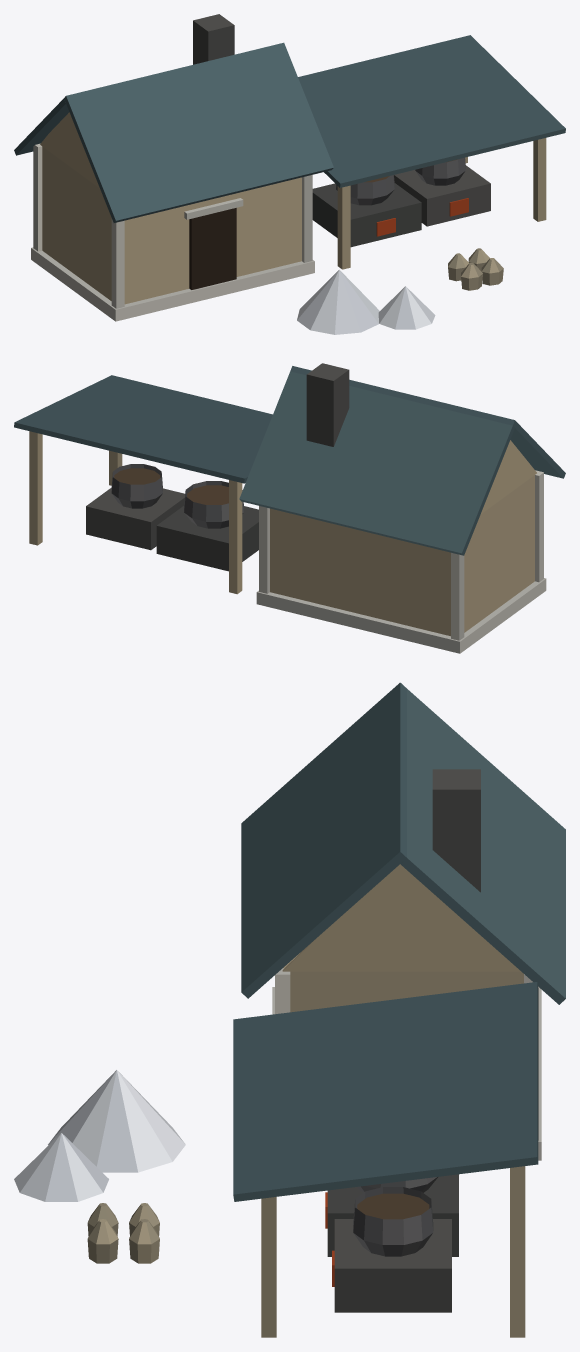
File: walk_veiled_saltworks.glb
The picture shows the model from 3 angles, top to bottom: view 1: azimuth 30°, elevation 25°; view 2: azimuth 150°, elevation 25°; view 3: azimuth 270°, elevation 25°; orthographic projection. The views are drawn at different scales.
Parts seen in each view (by area): view 1: walk_veiled_saltworks_roof, walk_veiled_saltworks; view 2: walk_veiled_saltworks_roof, walk_veiled_saltworks; view 3: walk_veiled_saltworks_roof, walk_veiled_saltworks.
Part boxes in pixels (x1=…): walk_veiled_saltworks_roof: x1=14, y1=14, x2=565, y2=222; walk_veiled_saltworks: x1=31, y1=112, x2=546, y2=334; walk_veiled_saltworks_roof: x1=14, y1=363, x2=565, y2=555; walk_veiled_saltworks: x1=29, y1=431, x2=546, y2=653; walk_veiled_saltworks_roof: x1=233, y1=682, x2=565, y2=1201; walk_veiled_saltworks: x1=14, y1=864, x2=541, y2=1337.
Size of what is drawn, in the model's own units: 11.9 by 5.6 by 7.99.
2 materials, 2 textured.
